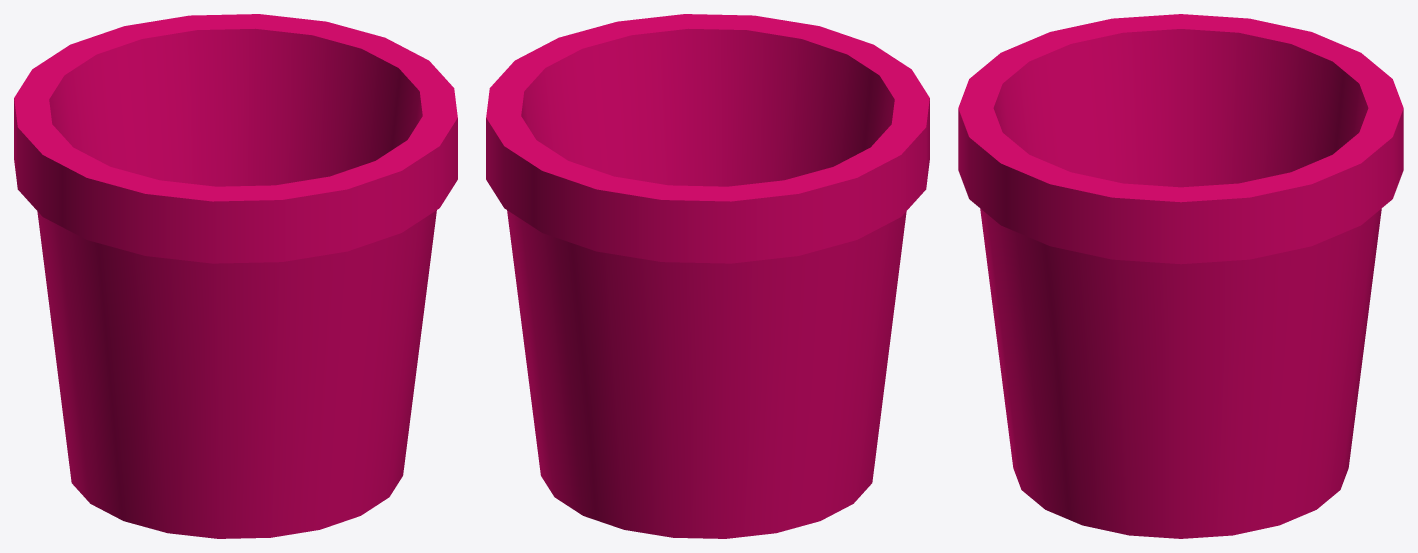
The model's file is Plant_Pot_04_Lod0.fbx.
3 renders of one model, left to right at view 1: azimuth 30°, elevation 25°; view 2: azimuth 150°, elevation 25°; view 3: azimuth 270°, elevation 25°, orthographic.
Visible parts, largest first — view 1: Plant_Pot_04_Lod0; view 2: Plant_Pot_04_Lod0; view 3: Plant_Pot_04_Lod0.
Part boxes in pixels (box(x1,y1,x2,y2)): Plant_Pot_04_Lod0: box(14, 14, 457, 538); Plant_Pot_04_Lod0: box(486, 14, 929, 538); Plant_Pot_04_Lod0: box(958, 14, 1403, 538).
Bounding box in the file's own units: 23.16 × 20.65 × 23.15.
